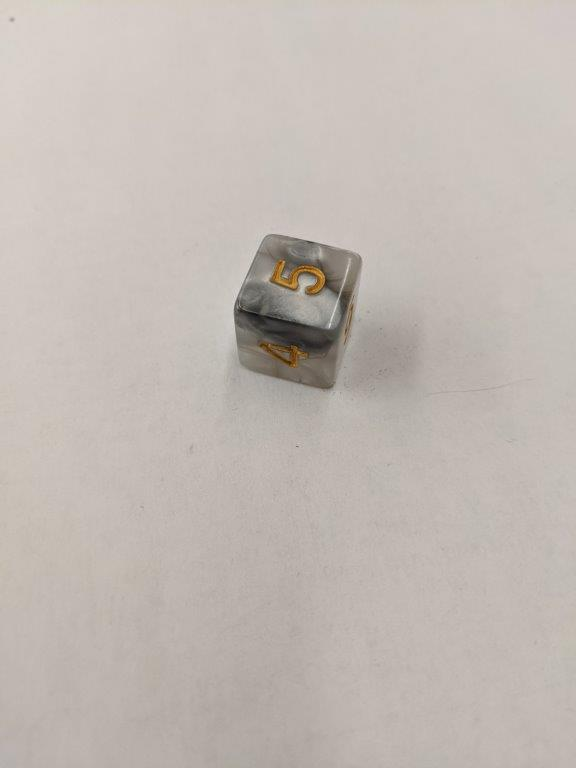d6-5: (233, 231, 364, 390)
